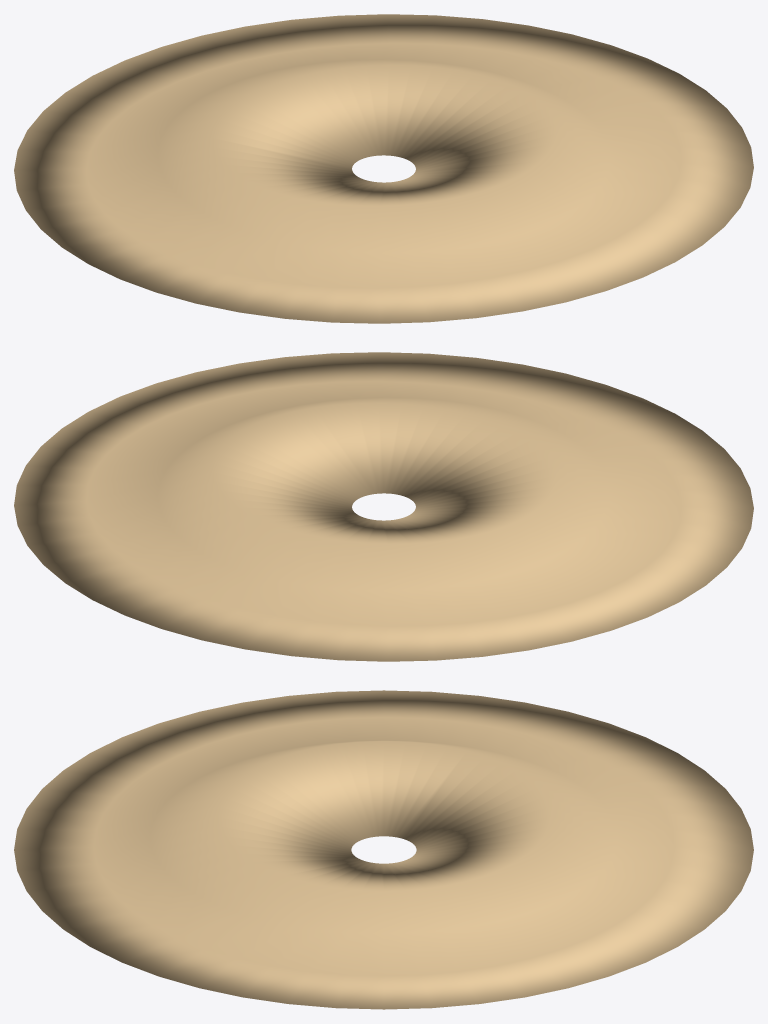
The model's file is Mound-Clam.fbx.
3 renders of one model, top to bottom at view 1: azimuth 30°, elevation 25°; view 2: azimuth 150°, elevation 25°; view 3: azimuth 270°, elevation 25°, orthographic.
Parts seen in each view (by area): view 1: Torus.001; view 2: Torus.001; view 3: Torus.001.
Boxes of the visible parts, <box> form: Torus.001: <box>14,14,753,323</box>; Torus.001: <box>14,352,753,661</box>; Torus.001: <box>14,690,753,1009</box>.
Bounding box in the file's own units: 71.56 × 3.53 × 70.13.
